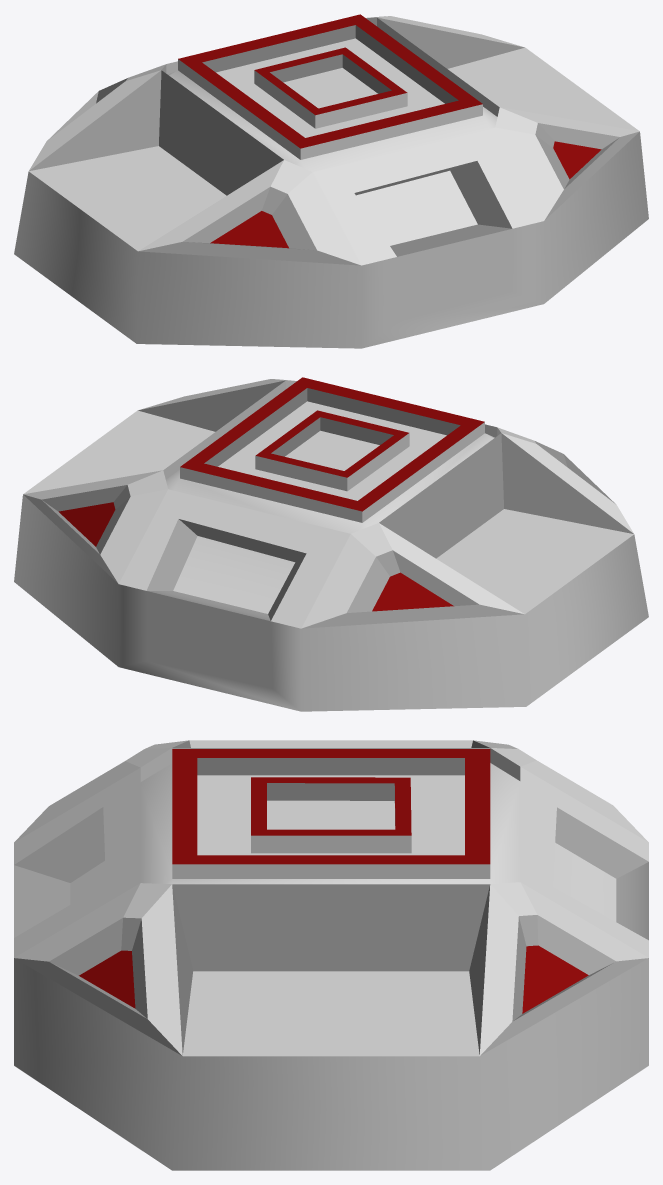
File: HealthKit.fbx
The picture shows the model from 3 angles, top to bottom: view 1: azimuth 30°, elevation 25°; view 2: azimuth 150°, elevation 25°; view 3: azimuth 270°, elevation 25°; orthographic projection. The views are drawn at different scales.
Visible parts, largest first — view 1: pCube1; view 2: pCube1; view 3: pCube1.
Part boxes in pixels (x1,y1,x2,y2): pCube1: [14, 14, 648, 348]; pCube1: [14, 377, 648, 711]; pCube1: [14, 740, 648, 1170].
Size of the model in its own units: 18.47 by 5.36 by 15.3.
